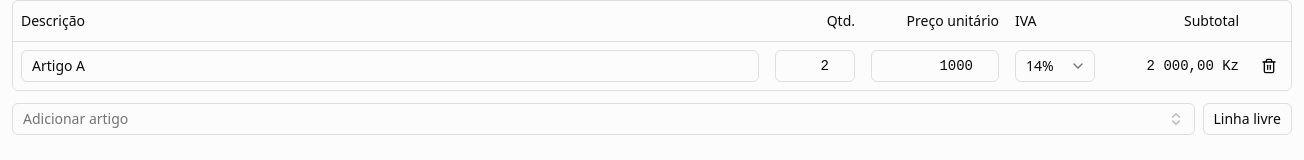
Test: LinhasEditor › recalcula o subtotal da linha ao mudar a quantidade (bug do fields desactualizado)
Replace the text in the number field named "Quantidade" with "3". click: (815, 66)
box: [775, 50, 855, 82]
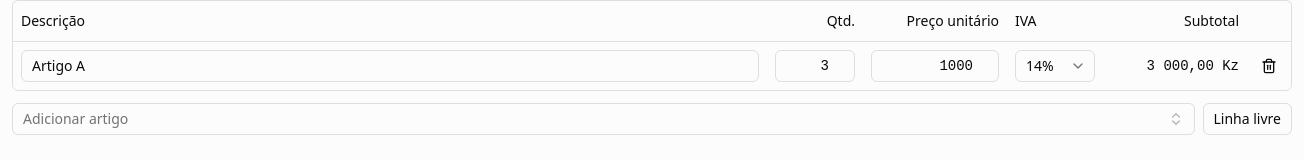
Expected: the text "3 000,00 Kz" is shown, [1147, 58, 1239, 74]
